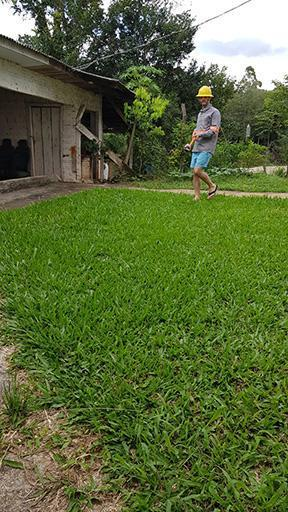helmet: (194, 85, 213, 106)
